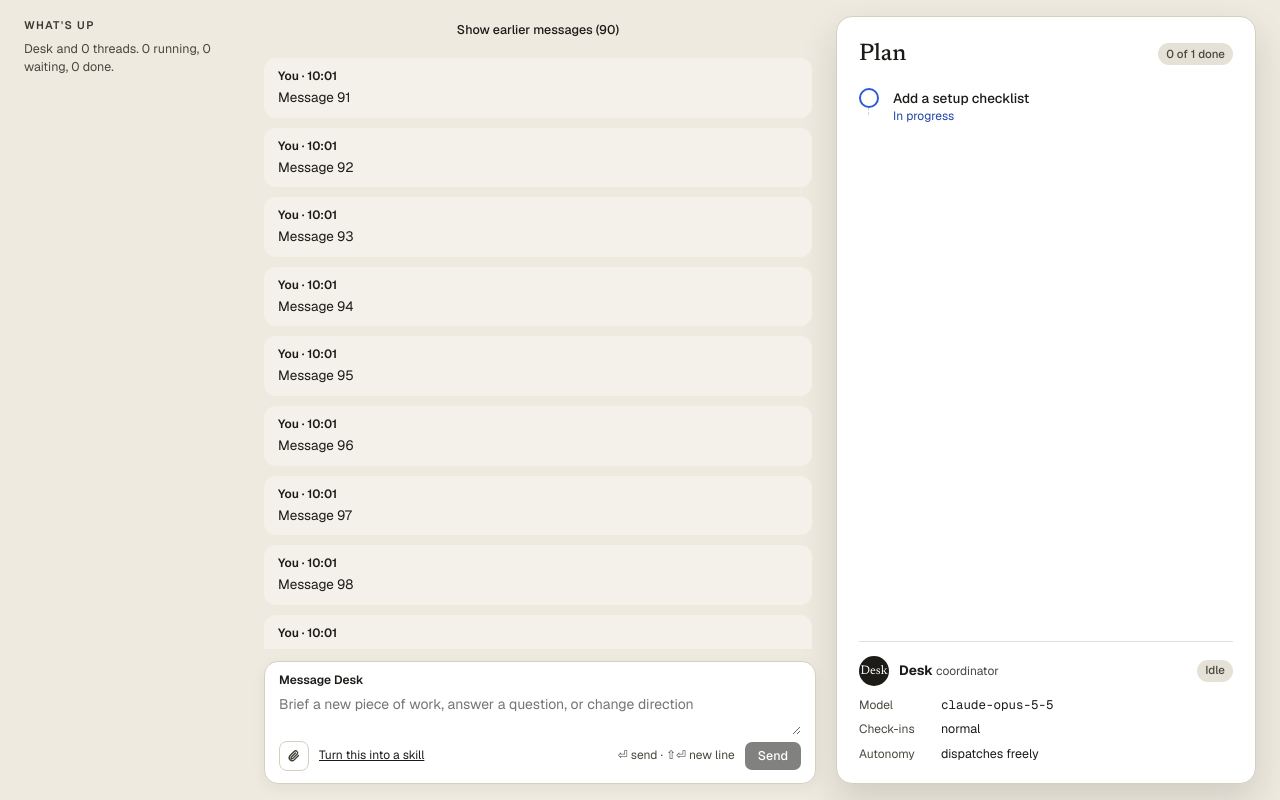
Scenario: ConversationScreen › renders a long conversation from the newest messages at once, and older ones on demand
Step 1. Click the button "Show earlier messages (90)" → (538, 30), box top-left (444, 20), bottom-right (632, 40)
(page scrolled)
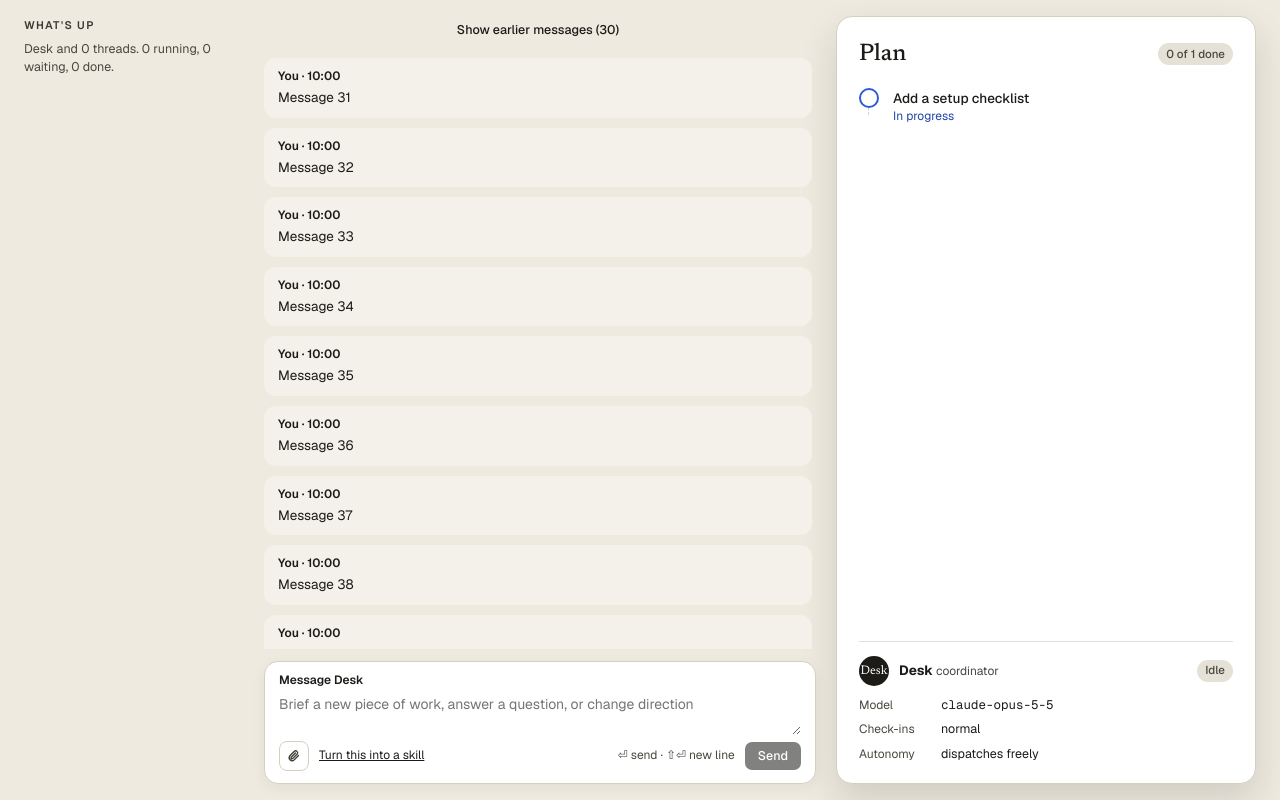
Step 2. Click the button "Show earlier messages (30)" → (538, 30), box top-left (444, 20), bottom-right (632, 40)
(page scrolled)
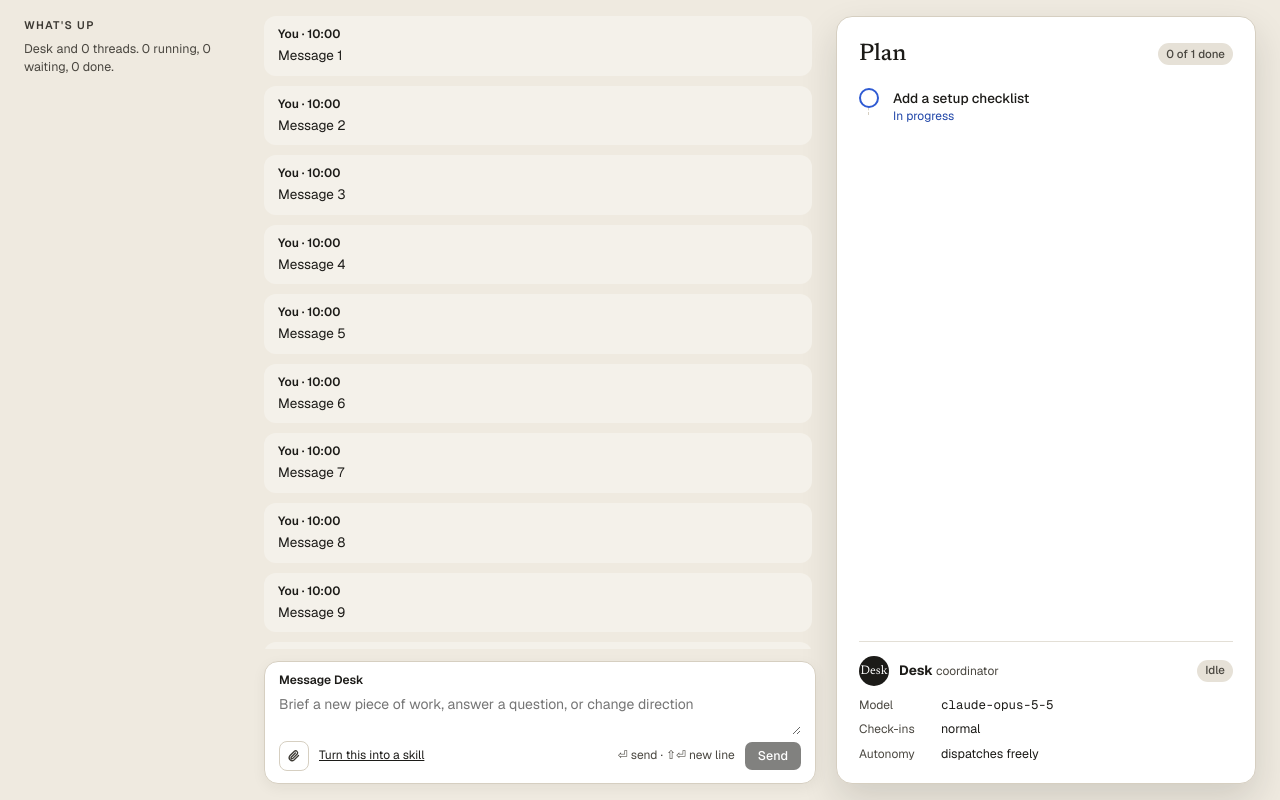
Now the text "Message 1" is shown, box top-left (278, 46), bottom-right (342, 64)
Now the button "Show earlier messages" is gone
